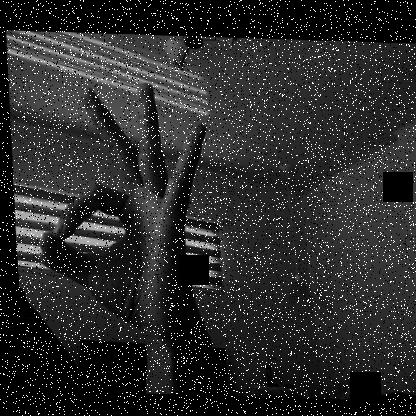F: (26, 77, 216, 333)
